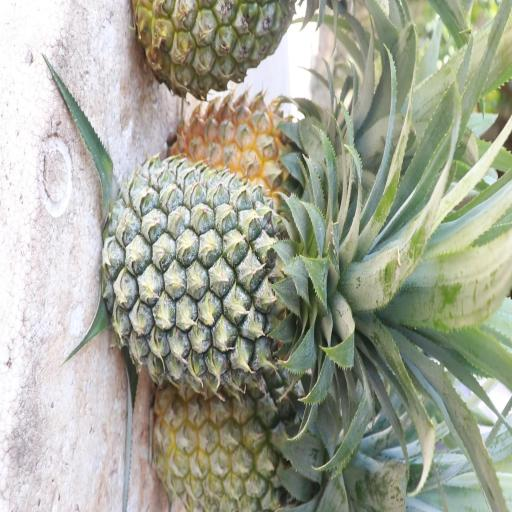------------------------------: (156, 370, 332, 512)
Pineapple - v8 v1: (186, 81, 338, 200)
